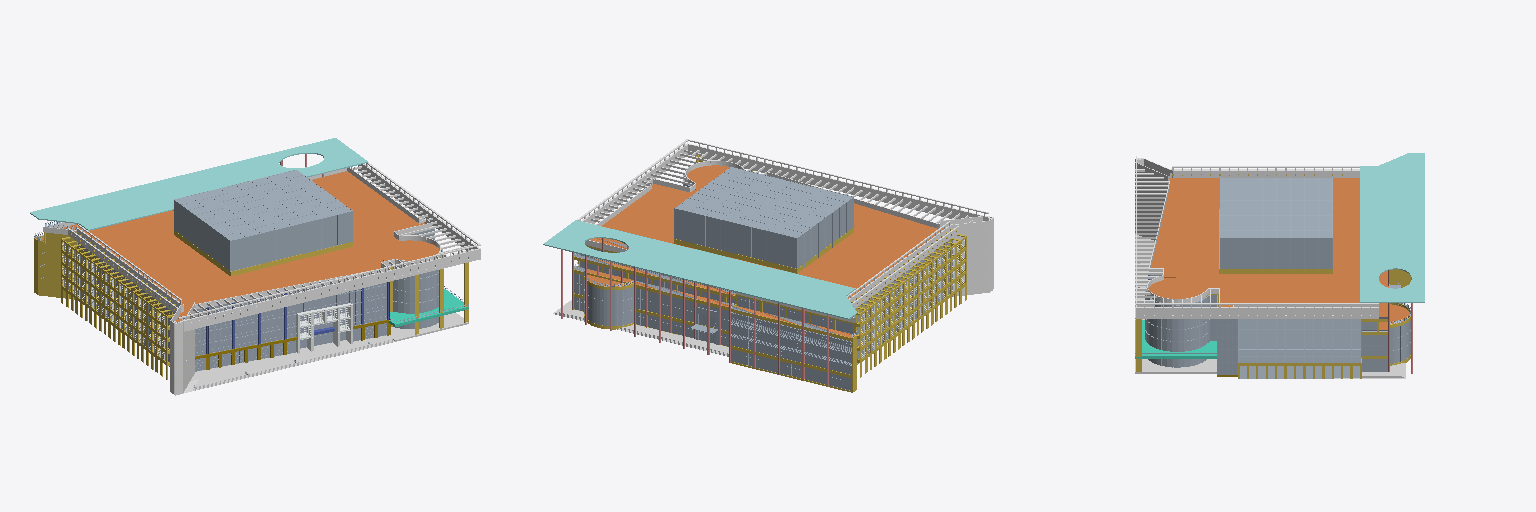
Rendered from mall.obj.
3 renders of one model, left to right at view 1: azimuth 30°, elevation 25°; view 2: azimuth 150°, elevation 25°; view 3: azimuth 270°, elevation 25°, orthographic.
Visible parts, largest first — view 1: Line34, Rectangle37, Rectangle01, Rectangle32, Rectangle28, Object01, Box02, Rectangle05, Object06, Rectangle18, Object05, Object07 (+3 smaller); view 2: Rectangle37, Rectangle28, Line34, Rectangle32, Rectangle01, Object01, Rectangle18, Mesh01, Object05, Object06, Object07, Rectangle05 (+2 smaller); view 3: Line34, Rectangle28, Rectangle37, Rectangle32, Object01, Rectangle18, Rectangle01, Object07, Box02, Object06, Object05, Box01.
Boxes of the visible parts, <box> form: Line34: <box>41,171,439,343</box>; Rectangle37: <box>174,170,352,270</box>; Rectangle01: <box>34,231,468,379</box>; Rectangle32: <box>30,138,367,230</box>; Rectangle28: <box>78,229,441,371</box>; Object01: <box>68,162,480,331</box>; Box02: <box>183,313,468,393</box>; Rectangle05: <box>62,242,352,360</box>; Object06: <box>43,168,440,327</box>; Rectangle18: <box>34,167,442,375</box>; Object05: <box>170,302,194,395</box>; Object07: <box>181,166,474,324</box>; Rectangle37: <box>675,167,853,268</box>; Rectangle28: <box>574,176,949,390</box>; Line34: <box>577,165,944,347</box>; Rectangle32: <box>543,220,856,319</box>; Rectangle01: <box>574,155,966,392</box>; Object01: <box>577,139,989,308</box>; Rectangle18: <box>574,167,856,382</box>; Mesh01: <box>561,238,828,386</box>; Object05: <box>940,216,993,296</box>; Object06: <box>585,160,989,322</box>; Object07: <box>586,150,972,224</box>; Rectangle05: <box>861,240,964,357</box>; Line34: <box>1148,178,1409,329</box>; Rectangle28: <box>1145,275,1410,378</box>; Rectangle37: <box>1220,178,1331,268</box>; Rectangle32: <box>1360,153,1424,302</box>; Object01: <box>1136,156,1378,318</box>; Rectangle18: <box>1135,178,1410,374</box>; Rectangle01: <box>1136,174,1410,378</box>; Object07: <box>1135,169,1370,312</box>; Box02: <box>1135,235,1405,378</box>; Object06: <box>1135,165,1378,306</box>; Object05: <box>1135,158,1169,240</box>; Box01: <box>1135,320,1216,358</box>.
Bounding box in the file's own units: 94212 × 29742 × 77205.